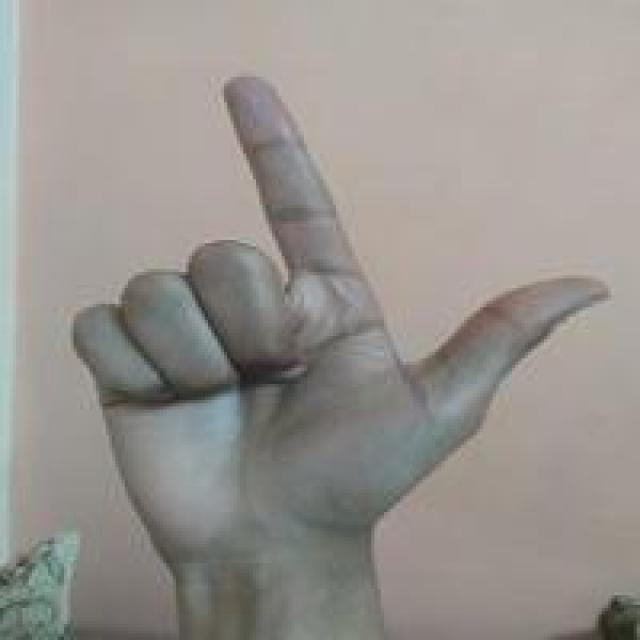L: (62, 67, 610, 576)
